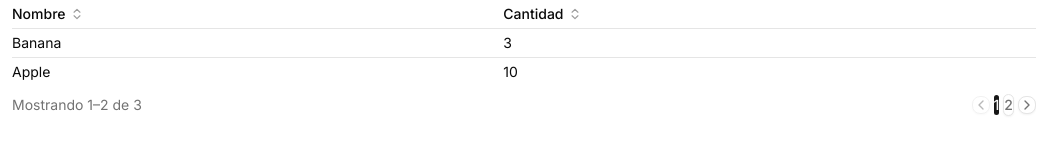
it: DataTable › paginates with page number buttons when pageSize is set
Check: the text "Banana" is shown, box [12, 28, 503, 58]
Check: the text "Apple" is shown, box [12, 58, 503, 86]
What coordinates should you click on to do the following:
click the button named "Página 2"
I would click on:
 (1009, 105)
Its box is [1003, 94, 1014, 116].
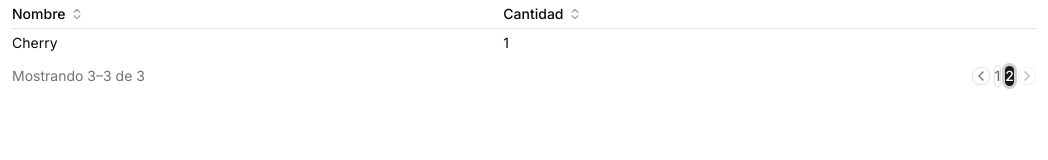
Check: the text "Cherry" is shown, box [12, 28, 503, 57]
